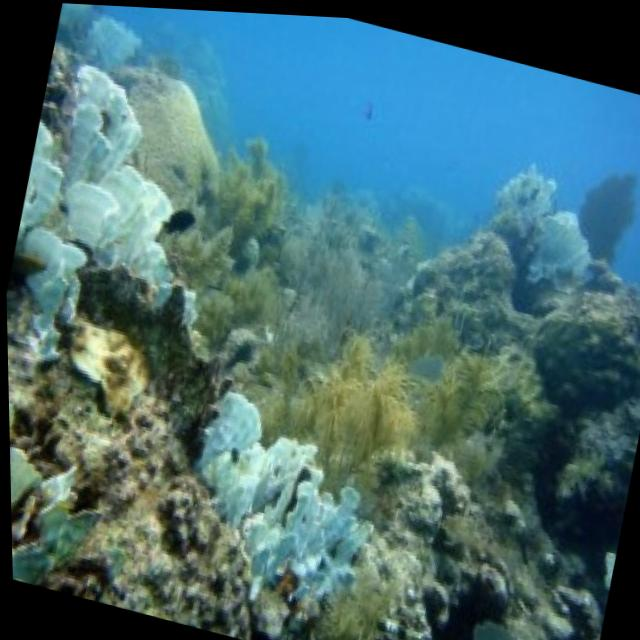Bleached Coral: (1, 54, 201, 355), (164, 382, 397, 612)
